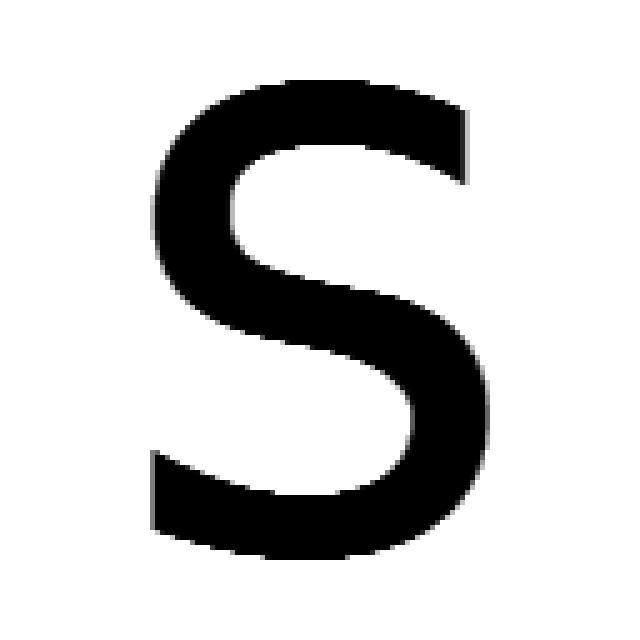S: (135, 70, 495, 565)
